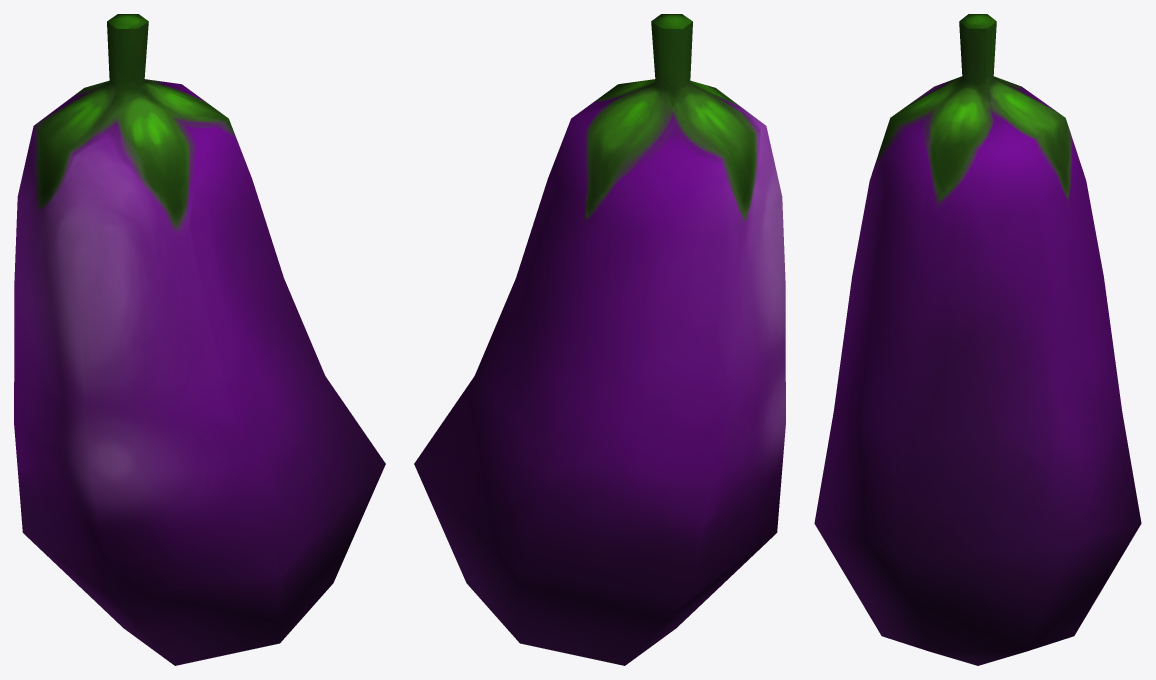
File: eggplant.fbx
3 renders of one model, left to right at view 1: azimuth 30°, elevation 25°; view 2: azimuth 150°, elevation 25°; view 3: azimuth 270°, elevation 25°, orthographic. The views are drawn at different scales.
Visible parts, largest first — view 1: eggplant; view 2: eggplant; view 3: eggplant.
Boxes of the visible parts, x1,y1,x2,y2 form: eggplant: (14,14,385,665); eggplant: (414,14,785,665); eggplant: (814,14,1141,665).
Bounding box in the file's own units: 1.45 × 3 × 1.49.
